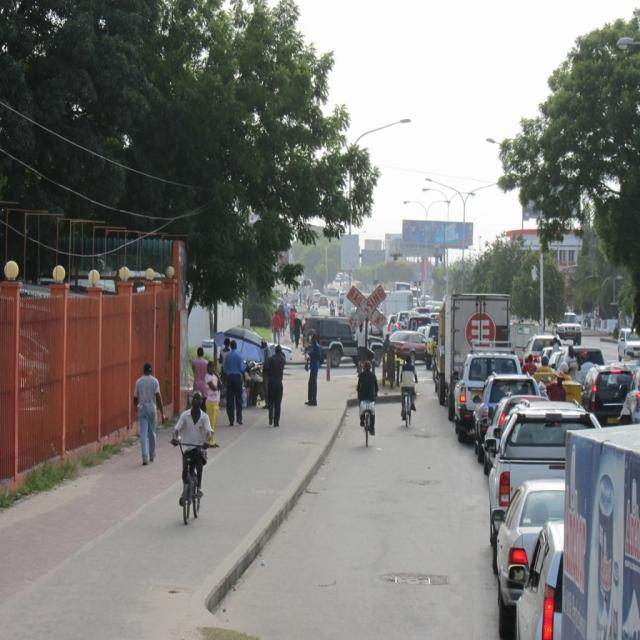other: (303, 284, 639, 639)
